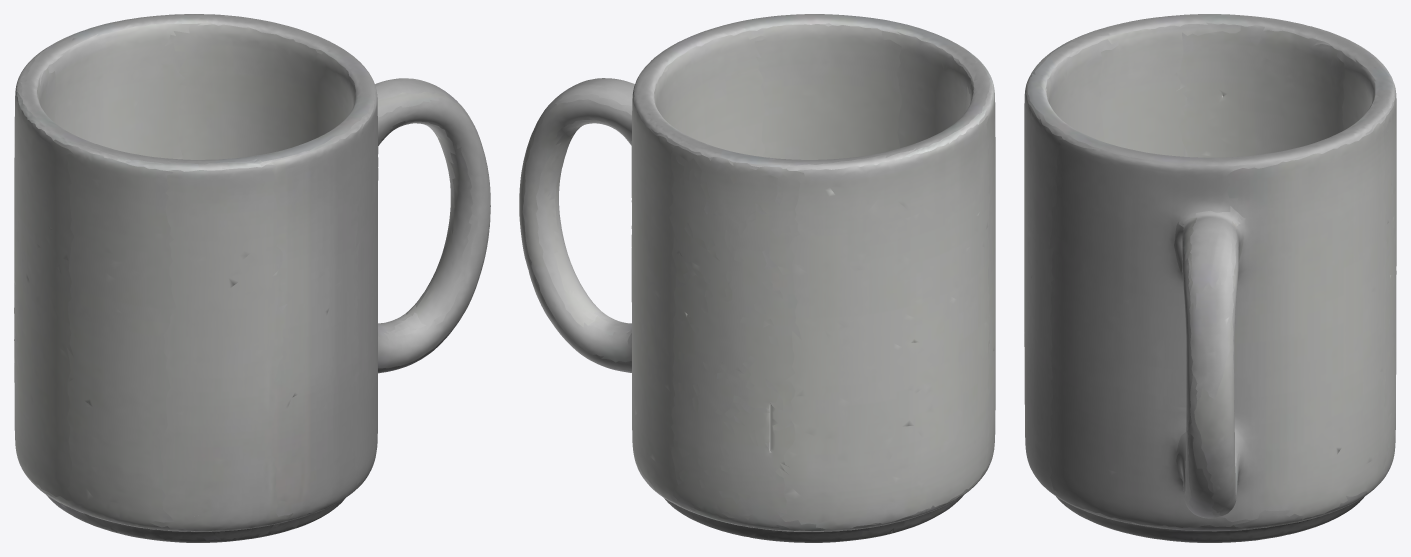
The picture shows the model from 3 angles, left to right: view 1: azimuth 30°, elevation 25°; view 2: azimuth 150°, elevation 25°; view 3: azimuth 270°, elevation 25°; orthographic projection.
Visible parts, largest first — view 1: geometry_0; view 2: geometry_0; view 3: geometry_0.
Boxes of the visible parts, x1,y1,x2,y2 form: geometry_0: (14, 14, 490, 542); geometry_0: (519, 14, 995, 542); geometry_0: (1024, 14, 1396, 542).
Bounding box in the file's own units: 0.1136 × 0.095 × 0.0819.
Materials: 1 (1 with a texture image).
